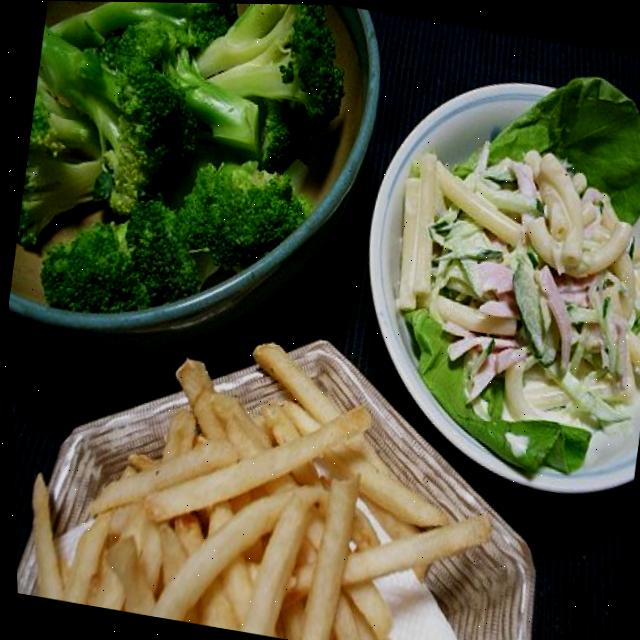炸货点心: (6, 262, 594, 640)
蔬菜料理: (314, 30, 640, 512)
